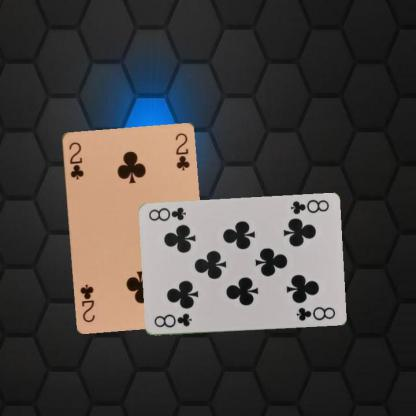2c: (66, 140, 84, 180)
8c: (288, 197, 330, 216), (151, 311, 193, 329)
